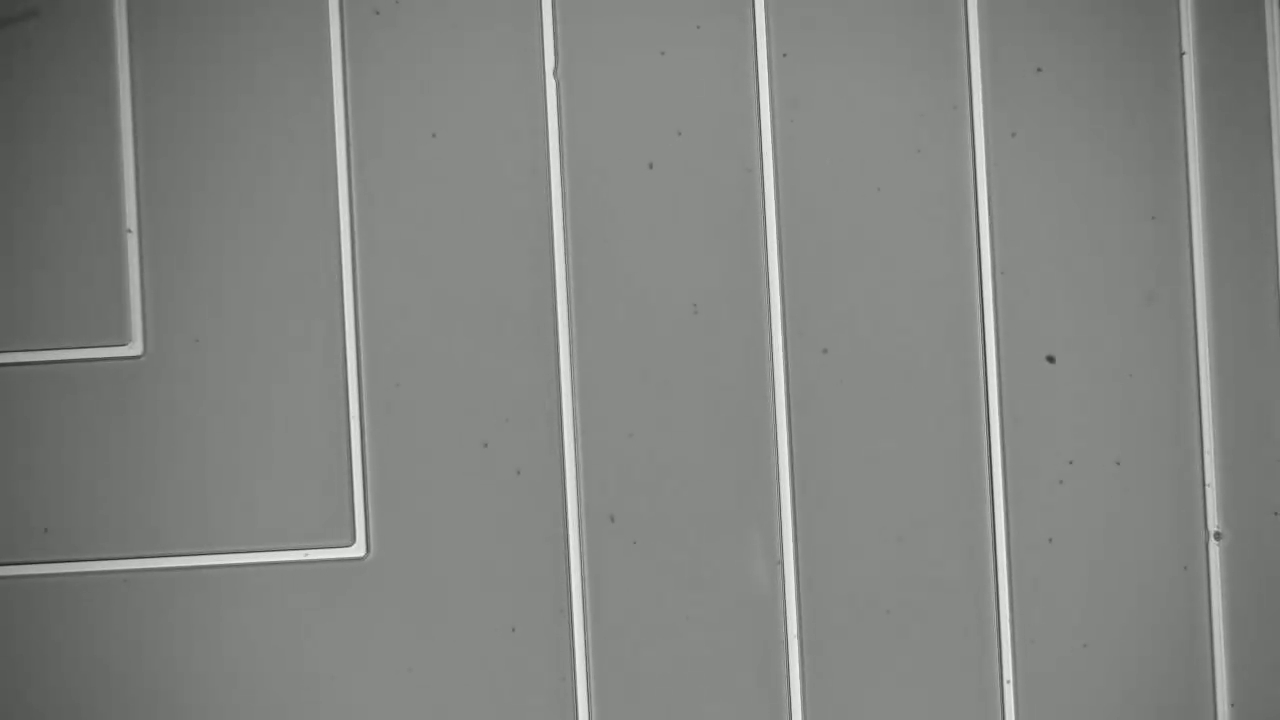stains_enbedded: (1199, 524, 1232, 549)
